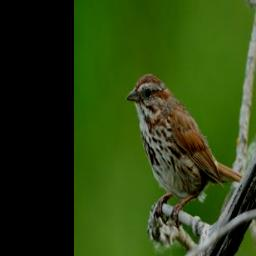Sparrow: (124, 71, 256, 230)
